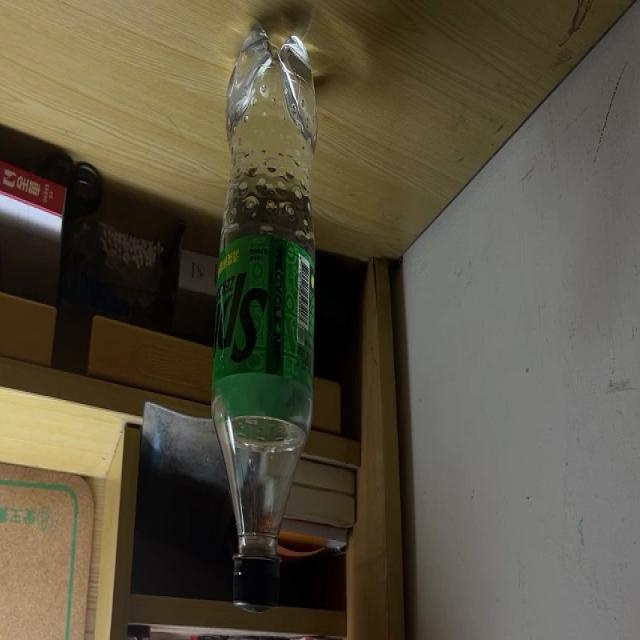Sprite: (211, 22, 320, 613)
